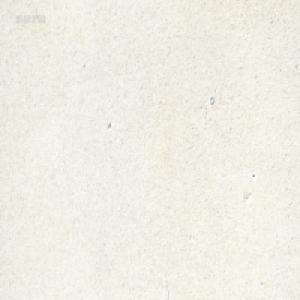Washer: (209, 94, 215, 105)
